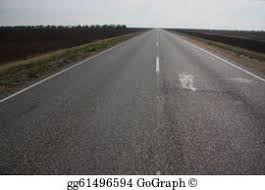strada: (54, 32, 265, 176)
